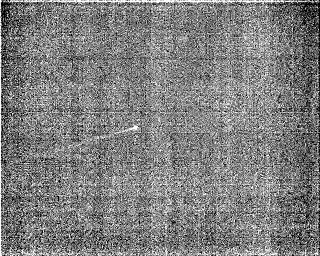AIRPLANE: (70, 122, 140, 150)
